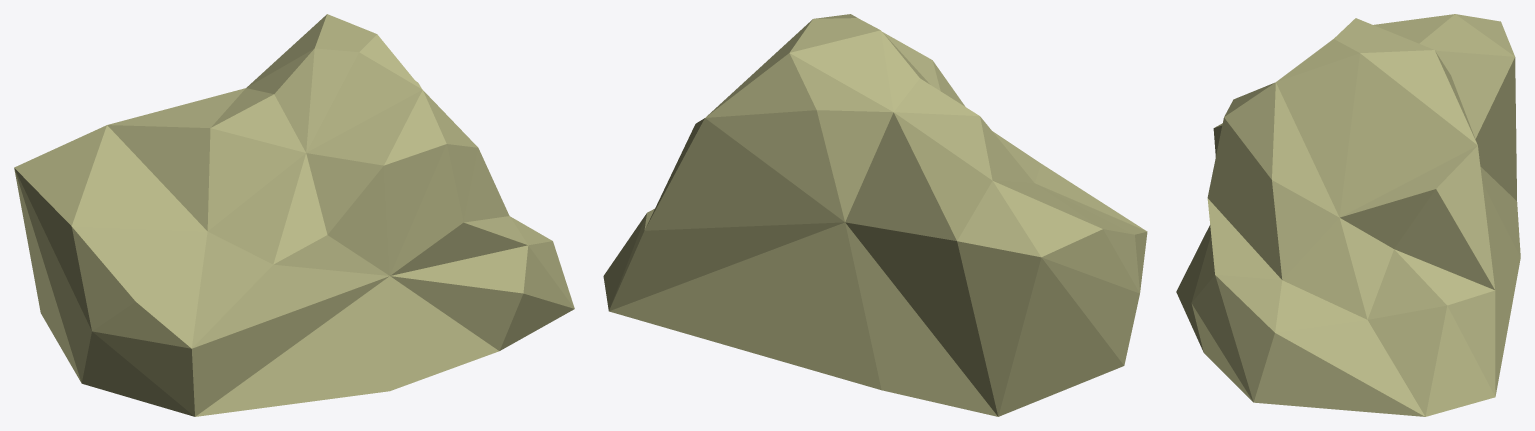
Rendered from RH_Rock08.fbx.
3 views of the same model, side by side, from view 1: azimuth 30°, elevation 25°; view 2: azimuth 150°, elevation 25°; view 3: azimuth 270°, elevation 25° (orthographic).
Parts seen in each view (by area): view 1: RH_Rock08; view 2: RH_Rock08; view 3: RH_Rock08.
Part boxes in pixels (x1,y1,x2,y2): RH_Rock08: (14, 14, 574, 416); RH_Rock08: (603, 14, 1147, 416); RH_Rock08: (1176, 14, 1520, 416).
Bounding box in the file's own units: 180 × 99.3 × 111.
1 material, 1 textured.
